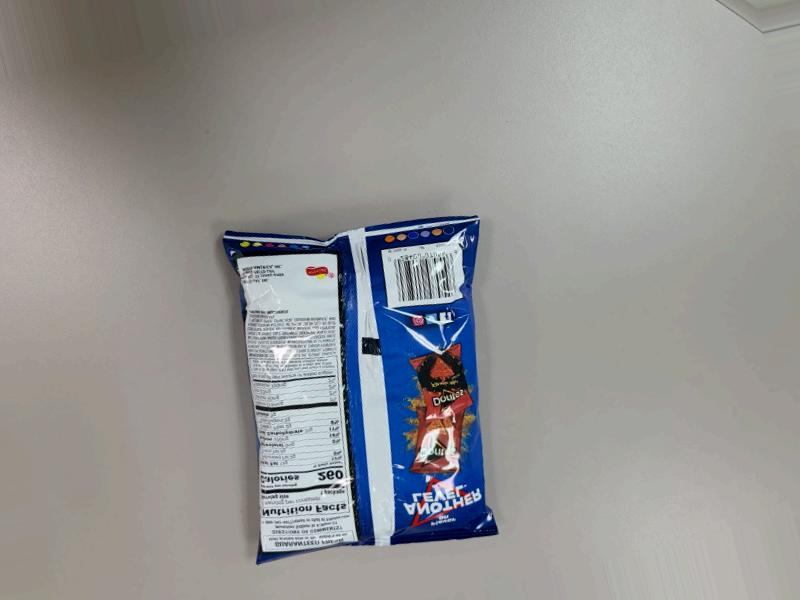doritos: (220, 220, 511, 598)
